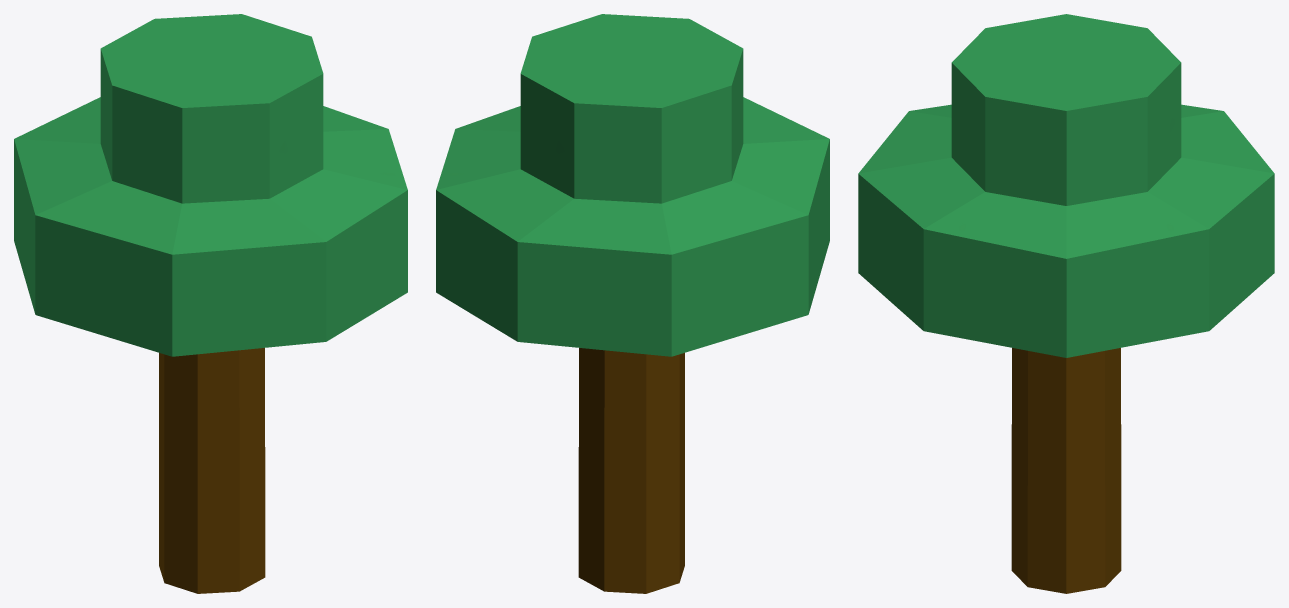
Rendered from tree.fbx.
3 views of the same model, side by side, from view 1: azimuth 30°, elevation 25°; view 2: azimuth 150°, elevation 25°; view 3: azimuth 270°, elevation 25° (orthographic).
Parts seen in each view (by area): view 1: Tree; view 2: Tree; view 3: Tree.
Boxes of the visible parts, <box> form: Tree: <box>14,14,407,593</box>; Tree: <box>436,14,829,593</box>; Tree: <box>858,14,1274,593</box>.
Size of the model in its own units: 917 by 895 by 1236.
1 material, 1 textured.
